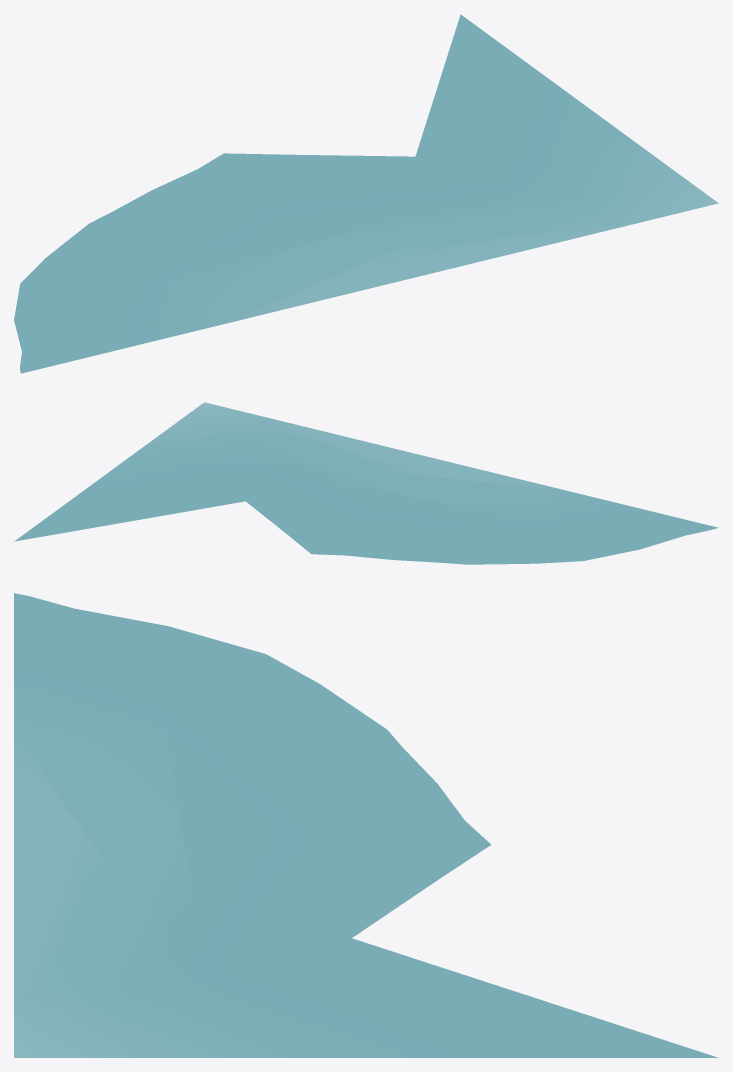
The picture shows the model from 3 angles, top to bottom: view 1: azimuth 30°, elevation 25°; view 2: azimuth 150°, elevation 25°; view 3: azimuth 270°, elevation 25°; orthographic projection. The views are drawn at different scales.
Parts seen in each view (by area): view 1: city; view 2: city; view 3: city.
Boxes of the visible parts, <box> form: city: <box>14,14,718,373</box>; city: <box>14,402,718,564</box>; city: <box>14,593,718,1057</box>.
Size of the model in its own units: 354 by 0 by 227.
